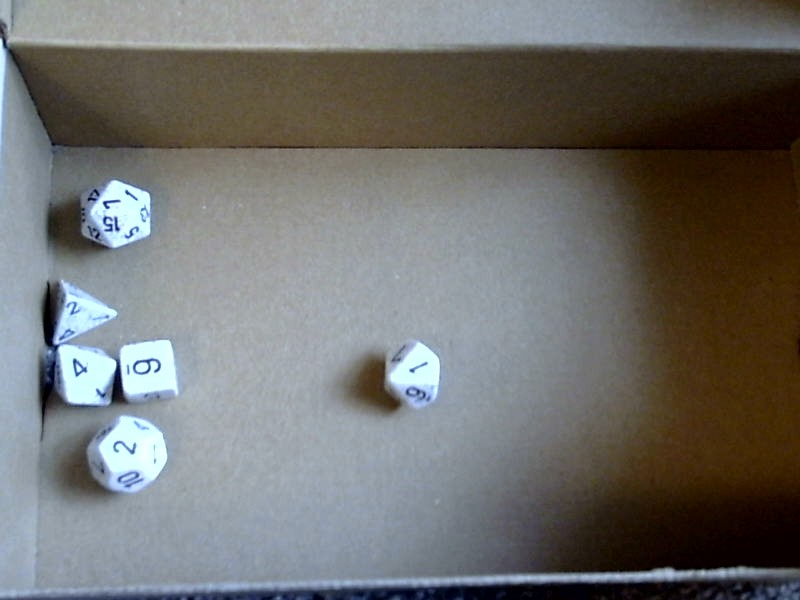d10 1: (375, 335, 445, 415)
d12 2: (84, 414, 169, 495)
d20 7: (74, 177, 155, 253)
d4 2: (41, 276, 122, 344)
d6 6: (117, 339, 181, 406)
d8 4: (45, 346, 121, 407)
